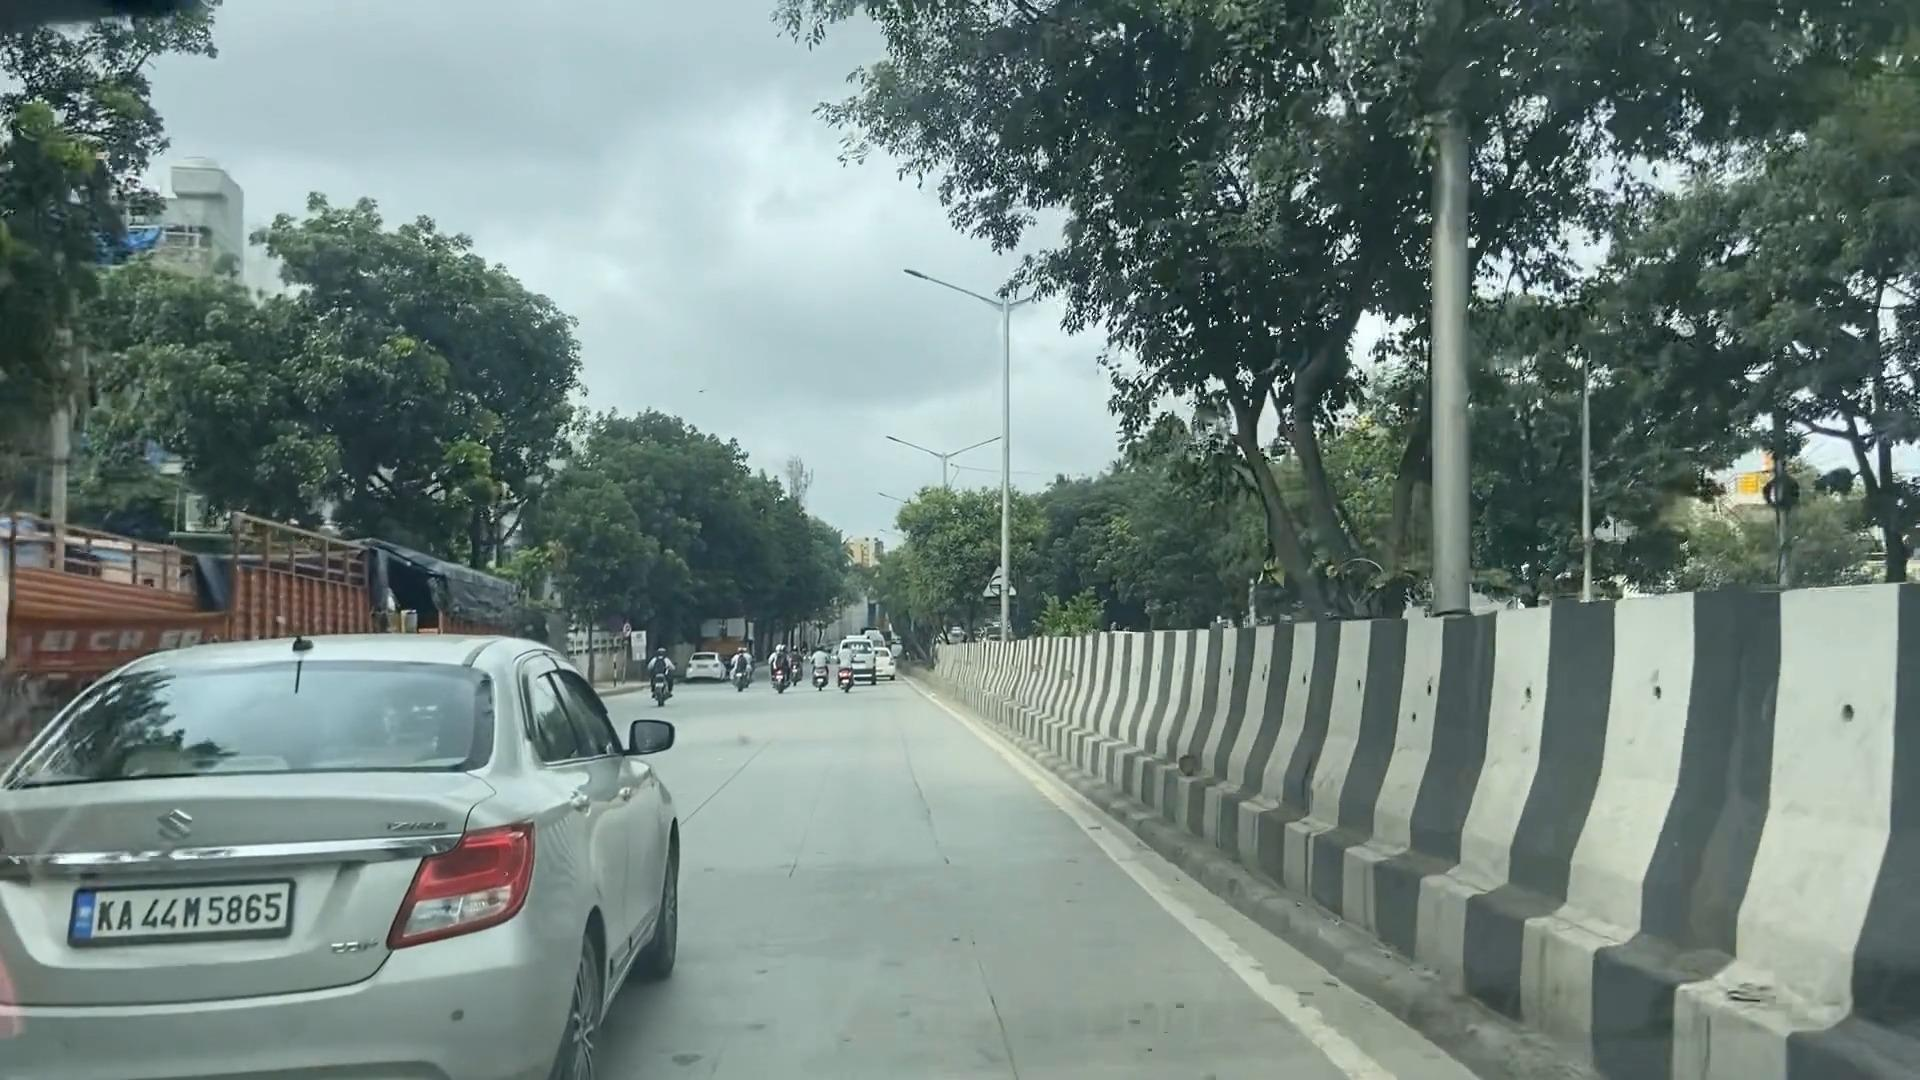LMV: (18, 625, 687, 1080)
